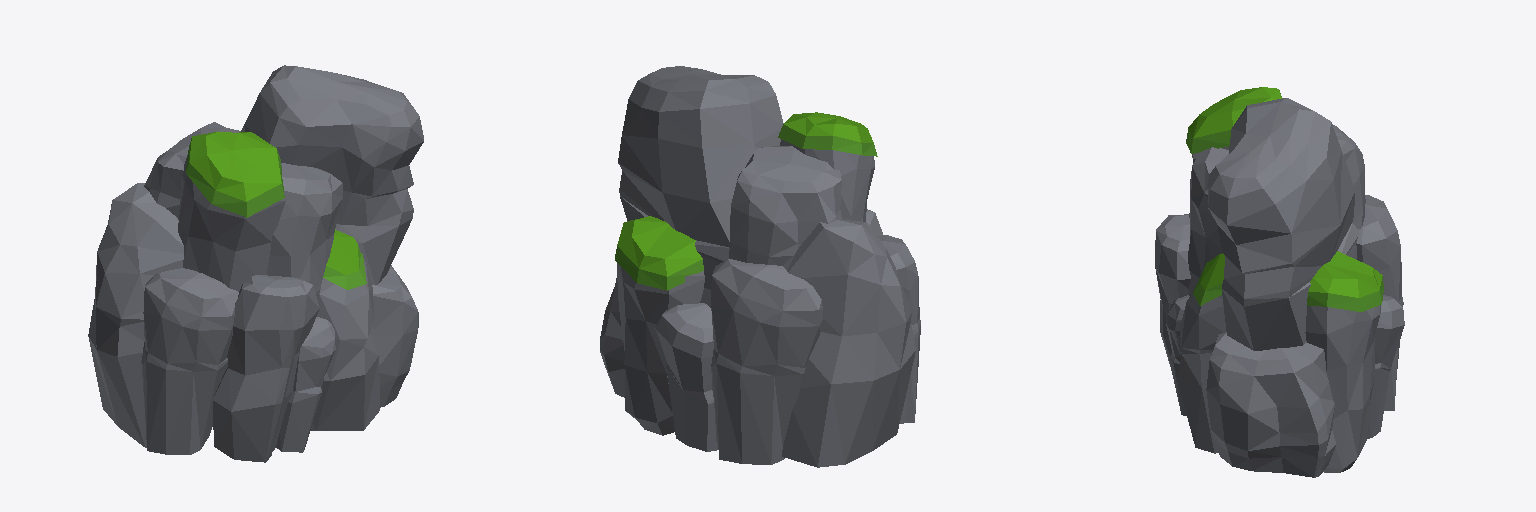
The model's file is mountains.obj.
3 renders of one model, left to right at view 1: azimuth 30°, elevation 25°; view 2: azimuth 150°, elevation 25°; view 3: azimuth 270°, elevation 25°, orthographic.
Visible parts, largest first — view 1: mountain2_Circle.001; view 2: mountain2_Circle.001; view 3: mountain2_Circle.001.
Part boxes in pixels (x1,y1,x2,y2): mountain2_Circle.001: (88,65,423,462); mountain2_Circle.001: (600,66,920,467); mountain2_Circle.001: (1155,87,1404,477).
Size of the model in its own units: 13.85 by 15.16 by 10.04.